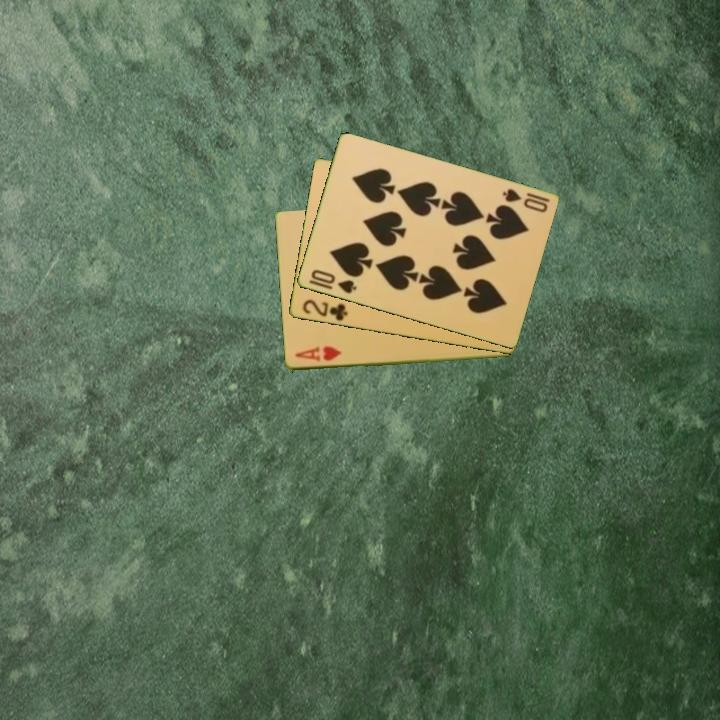10s: (498, 185, 552, 216), (307, 266, 359, 297)
2c: (299, 296, 350, 324)
Ah: (291, 343, 344, 365)
